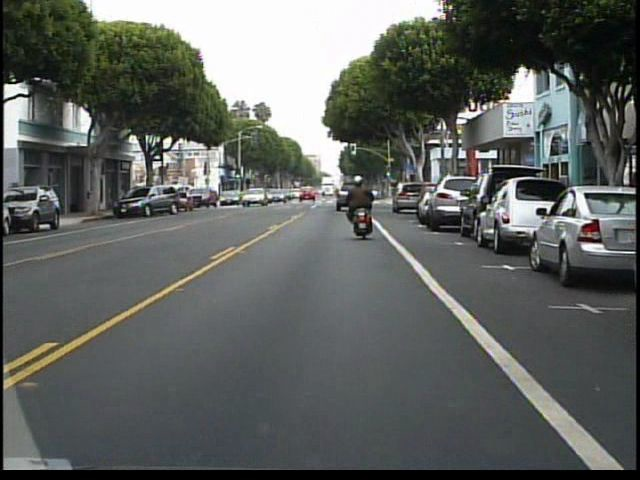person: (339, 170, 376, 237)
